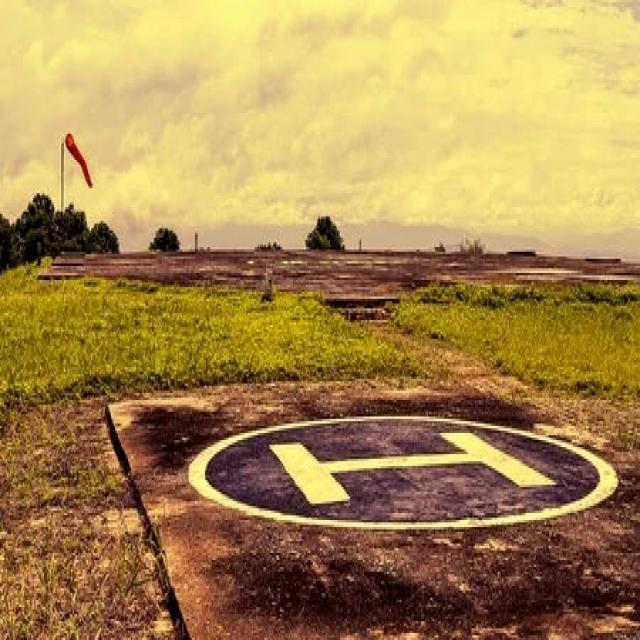helipad: (182, 402, 617, 536)
